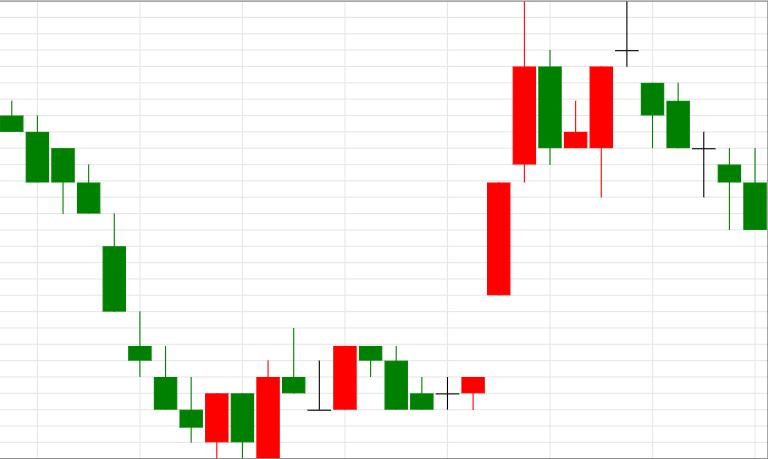bullish_engulfing_rise: (1, 100, 279, 459)
